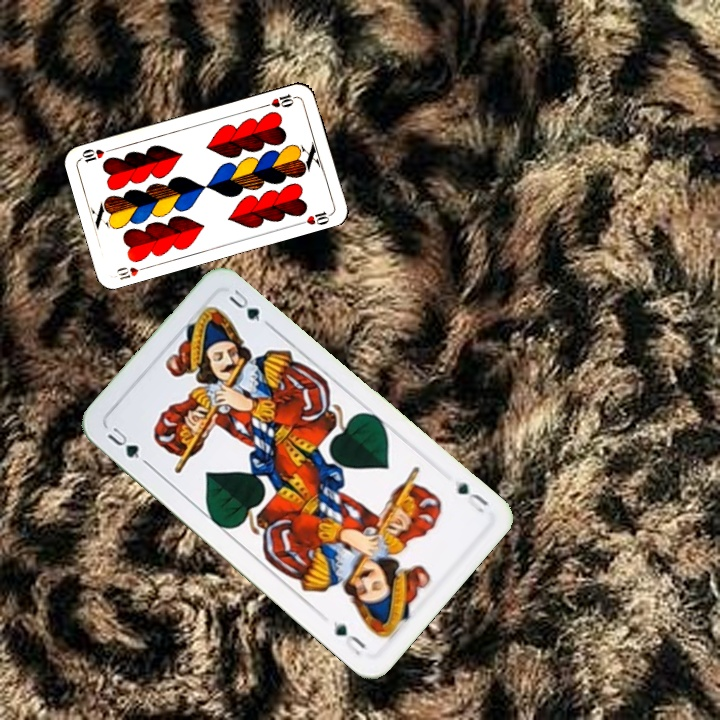GU: (103, 423, 150, 467), (448, 476, 491, 516)
H10: (259, 90, 299, 110), (112, 262, 152, 282)
